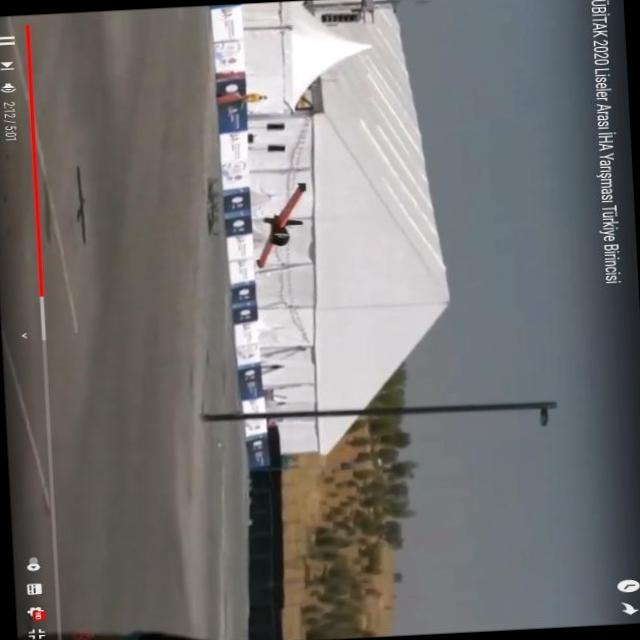UAV: (232, 182, 324, 264)
